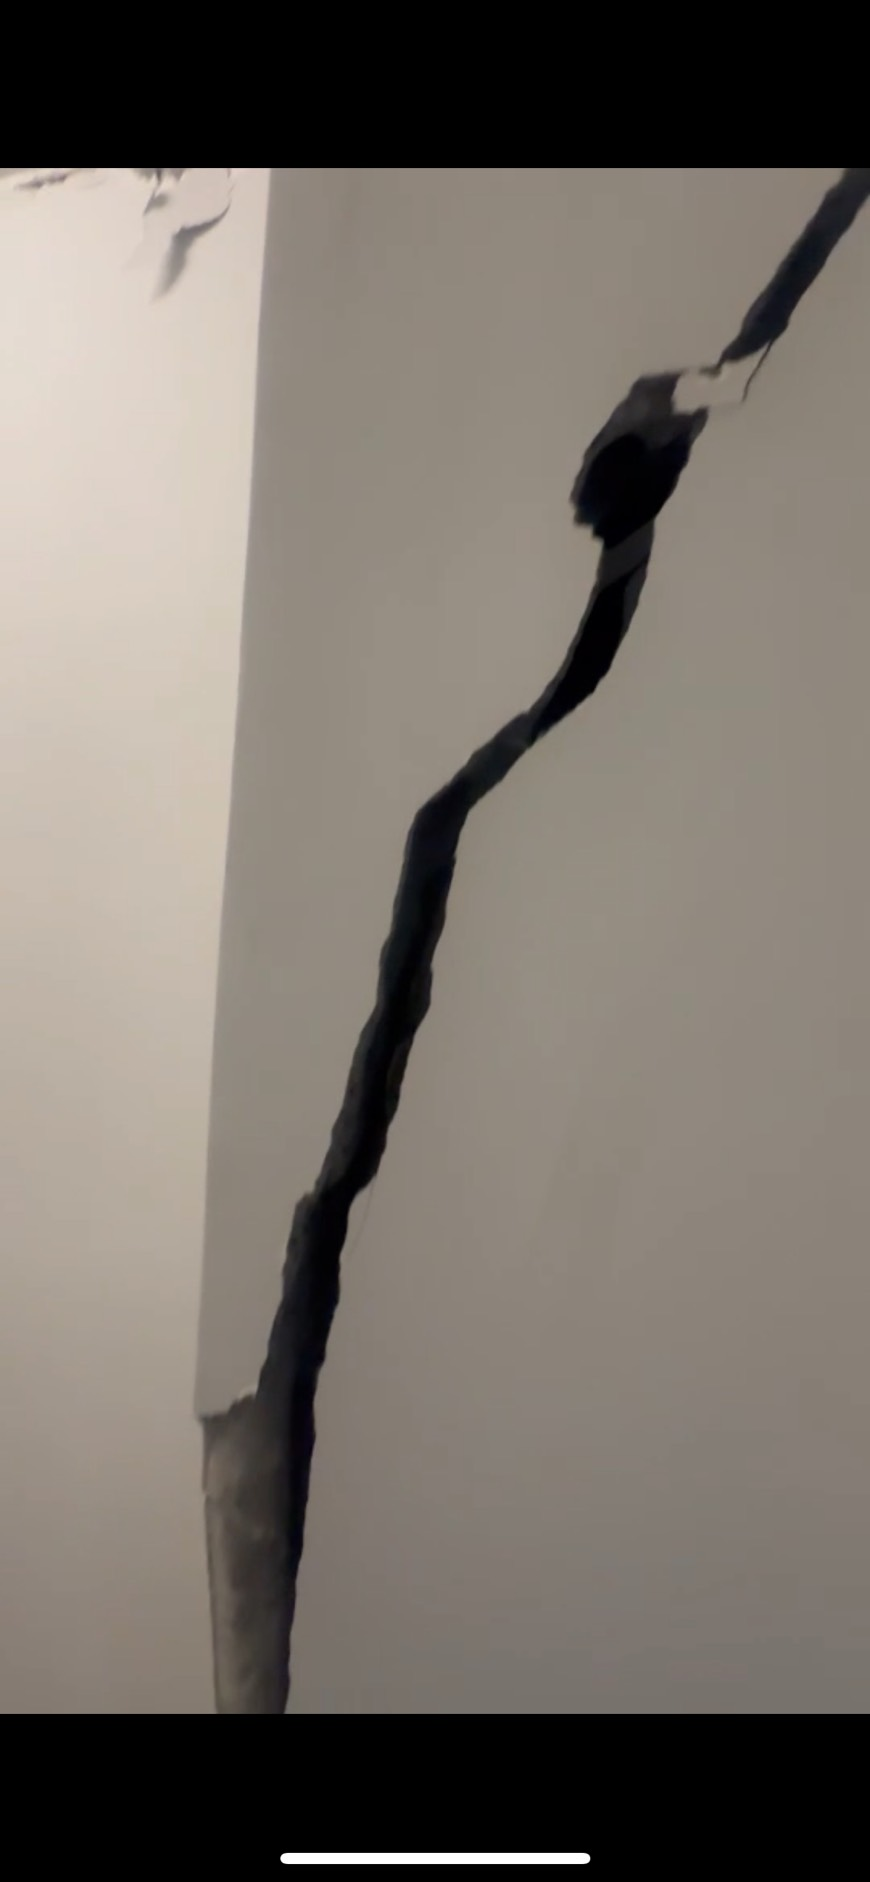Medium: (242, 254, 749, 1574)
